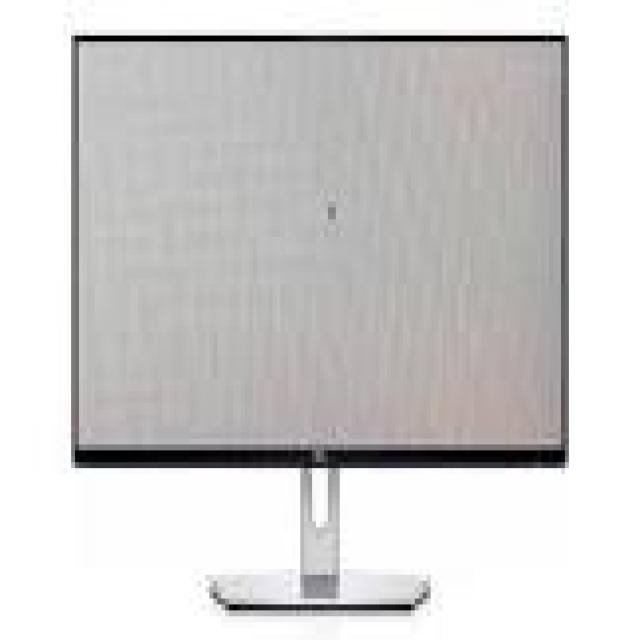dead_pixel: (325, 200, 340, 230)
